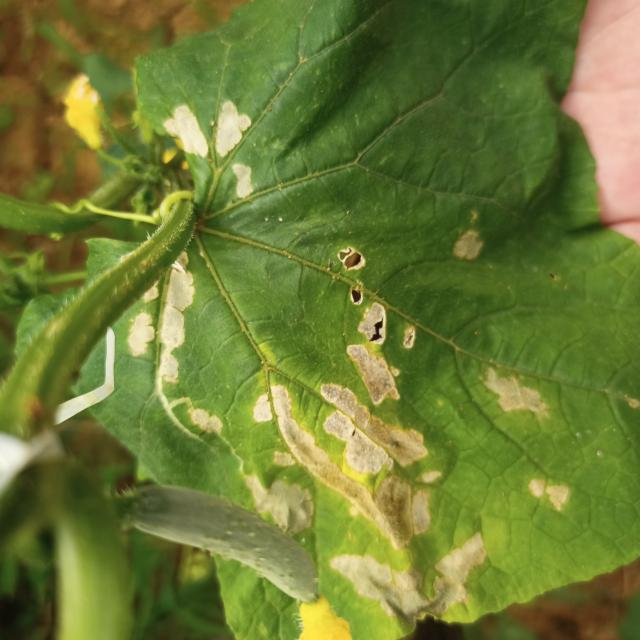disease_cucumber: (242, 241, 575, 618), (126, 100, 259, 438)
